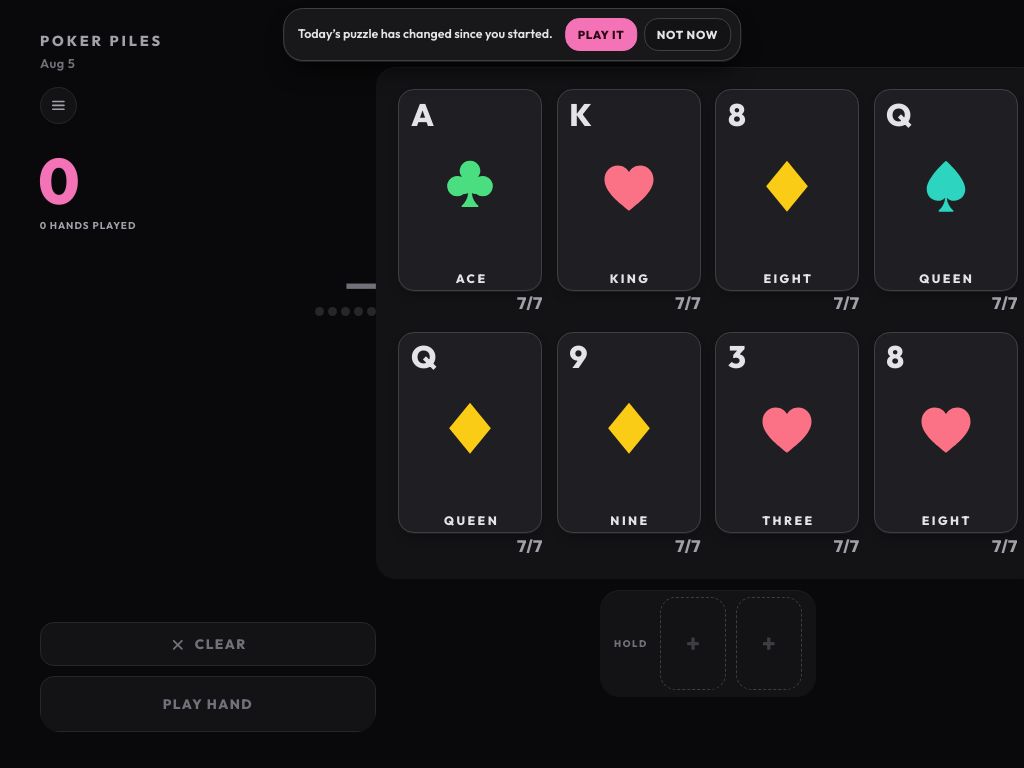
Scenario: App › UTC rollover (PP-6) › dismissing the banner suppresses it rather than resurfacing on the next poll
The width and height of the screenshot is (1024, 768).
Expected: the text "Today’s puzzle has changed since you started." is shown, [298,26,555,43]
Step 1. Click the button "Not now" → {"x": 687, "y": 35}, box [644,18,731,51]
Wait 60000 ms
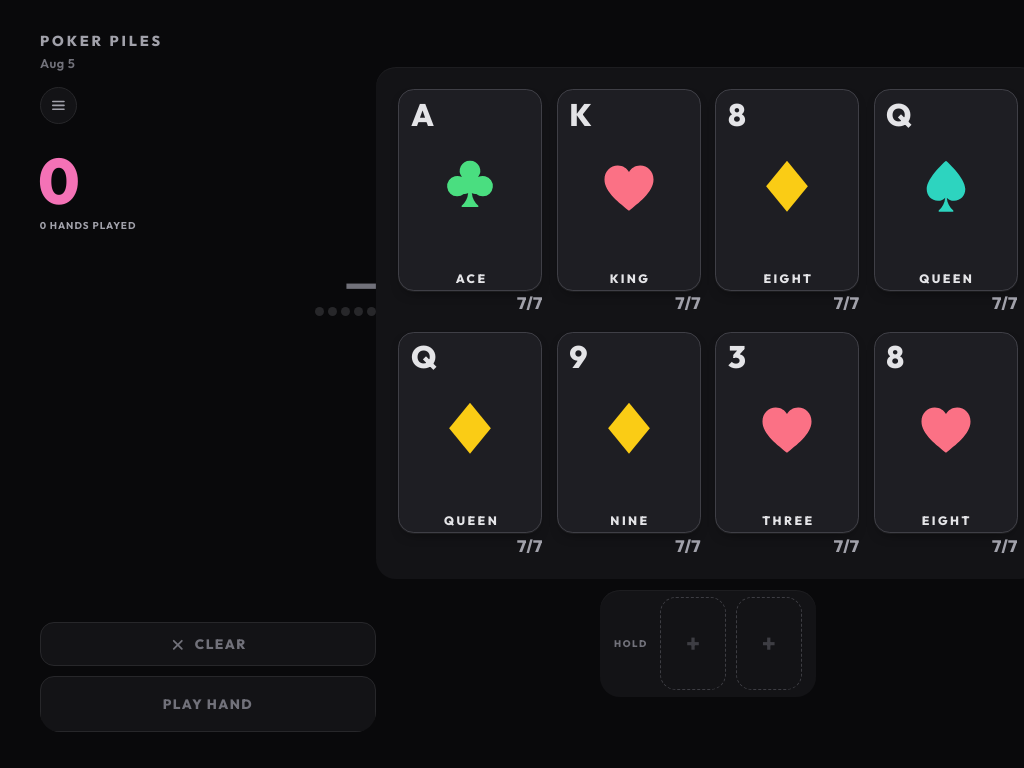
Expected: the text "puzzle has changed" is gone
